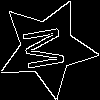M: (22, 23, 75, 72)
